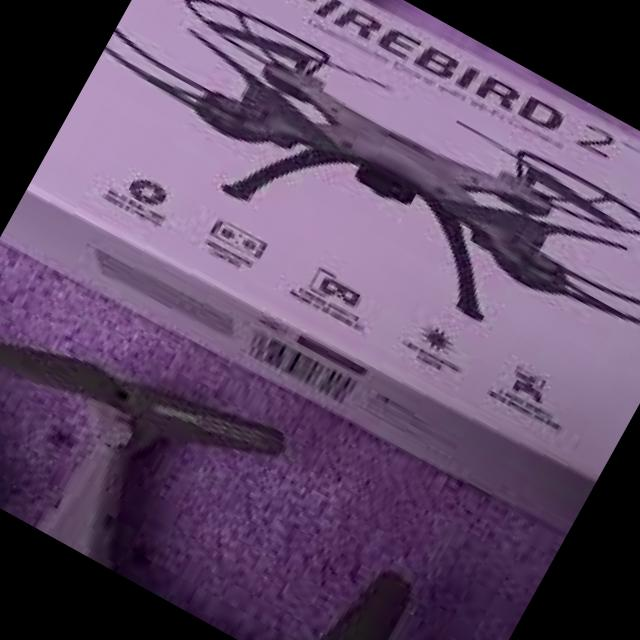drone: (73, 0, 640, 415)
